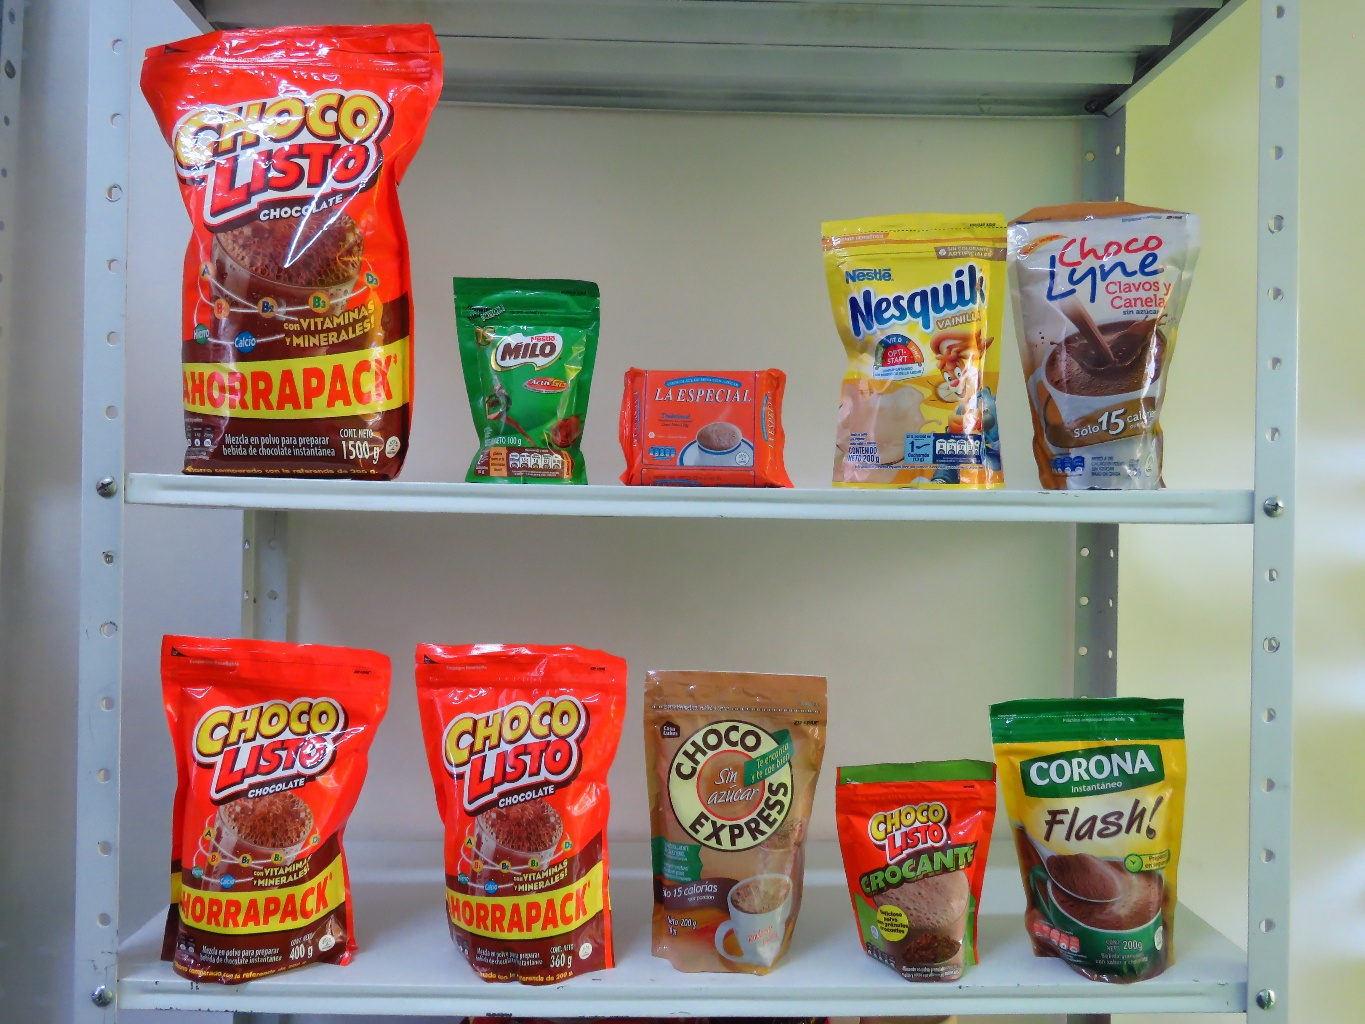COL0170102DYP10000: (819, 738, 1016, 992)
COL0170103DYP1,500: (117, 11, 470, 490)
COL0170103DYP36000: (400, 627, 651, 992)
COL0170103DYP40000: (133, 616, 404, 984)
COL0170203DYP10000: (445, 265, 610, 485)
COL0170306DYP20000: (807, 204, 1022, 495)
